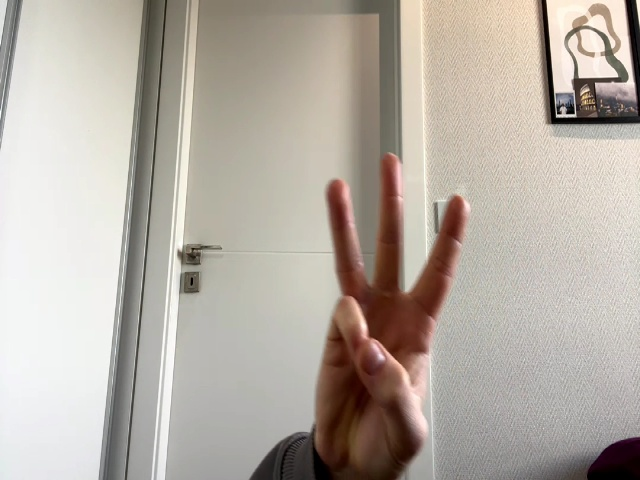W: (315, 152, 470, 477)
